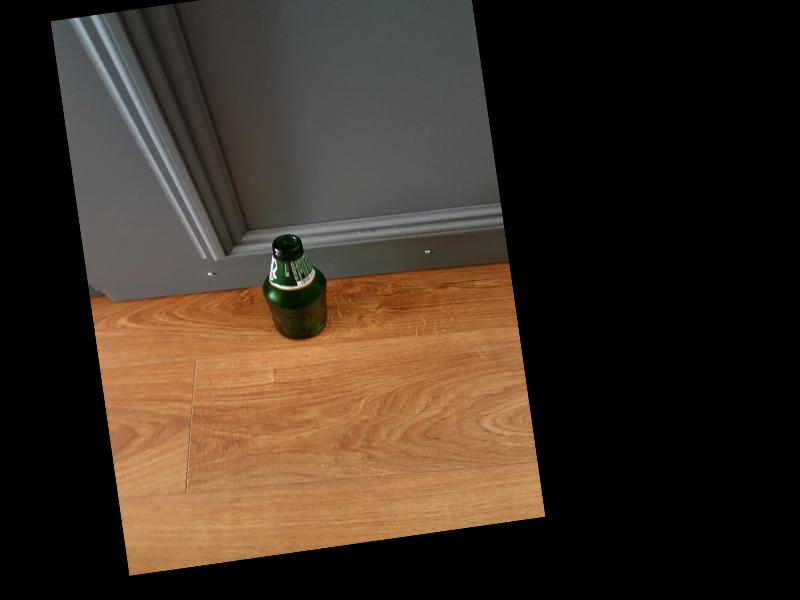Beer: (255, 230, 334, 344)
